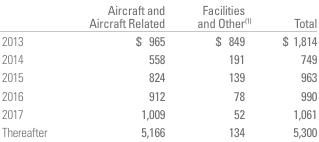table: (1, 1, 316, 139)
table column: (67, 1, 180, 139), (180, 1, 266, 139), (1, 1, 67, 139), (266, 1, 316, 139)
table column header: (1, 1, 316, 31)
table row: (1, 1, 316, 31), (1, 85, 316, 104), (1, 31, 316, 49), (1, 49, 316, 67), (1, 67, 316, 85), (1, 104, 316, 122), (1, 122, 316, 139)
